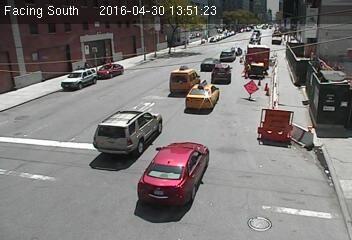neg: (169, 159, 202, 203), (134, 164, 163, 204), (93, 120, 118, 154)
pos: (243, 62, 254, 78)
